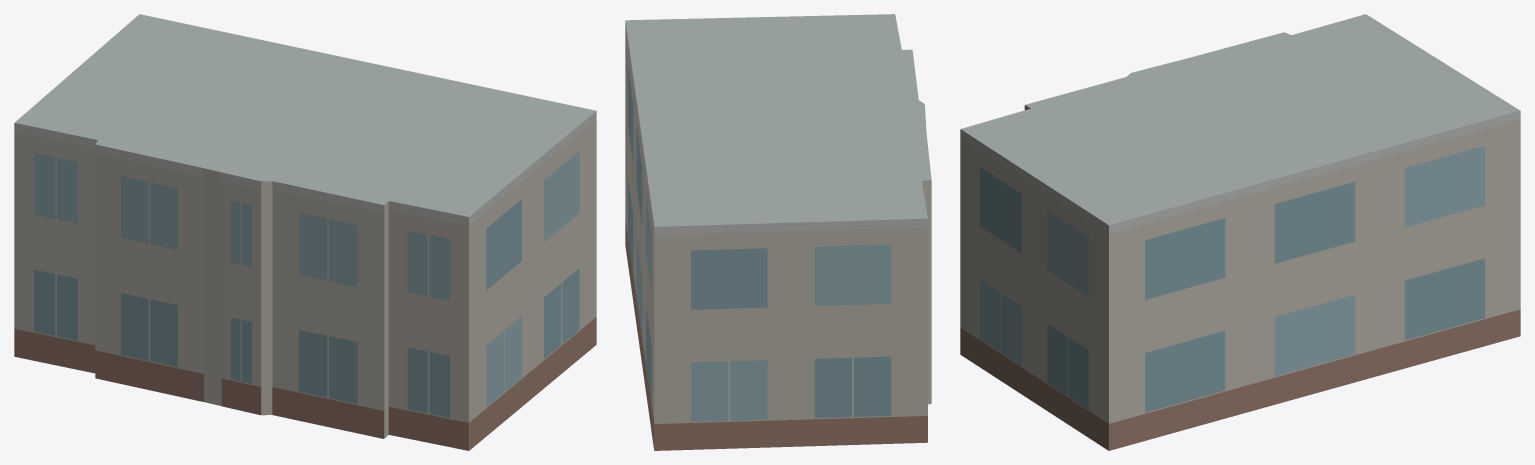
The model's file is survey-upis-32619288.glb.
The picture shows the model from 3 angles, left to right: view 1: azimuth 30°, elevation 25°; view 2: azimuth 150°, elevation 25°; view 3: azimuth 270°, elevation 25°; orthographic projection. The views are drawn at different scales.
Parts seen in each view (by area): view 1: survey-upis-32619288.tmp; view 2: survey-upis-32619288.tmp; view 3: survey-upis-32619288.tmp.
Part boxes in pixels (x1,y1,x2,y2): survey-upis-32619288.tmp: (14,14,596,450); survey-upis-32619288.tmp: (625,14,931,450); survey-upis-32619288.tmp: (960,14,1520,450).
Bounding box in the file's own units: 13.27 × 6.6 × 14.86.
